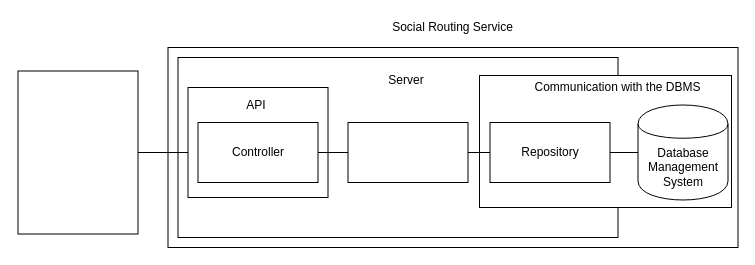
The diagram is 755 pixels wide and 265 high, and some of its shapes have lost their labels. Each missing label, with the box of its shape:
Client Application: (17, 70, 138, 234)
Service: (347, 122, 468, 182)
